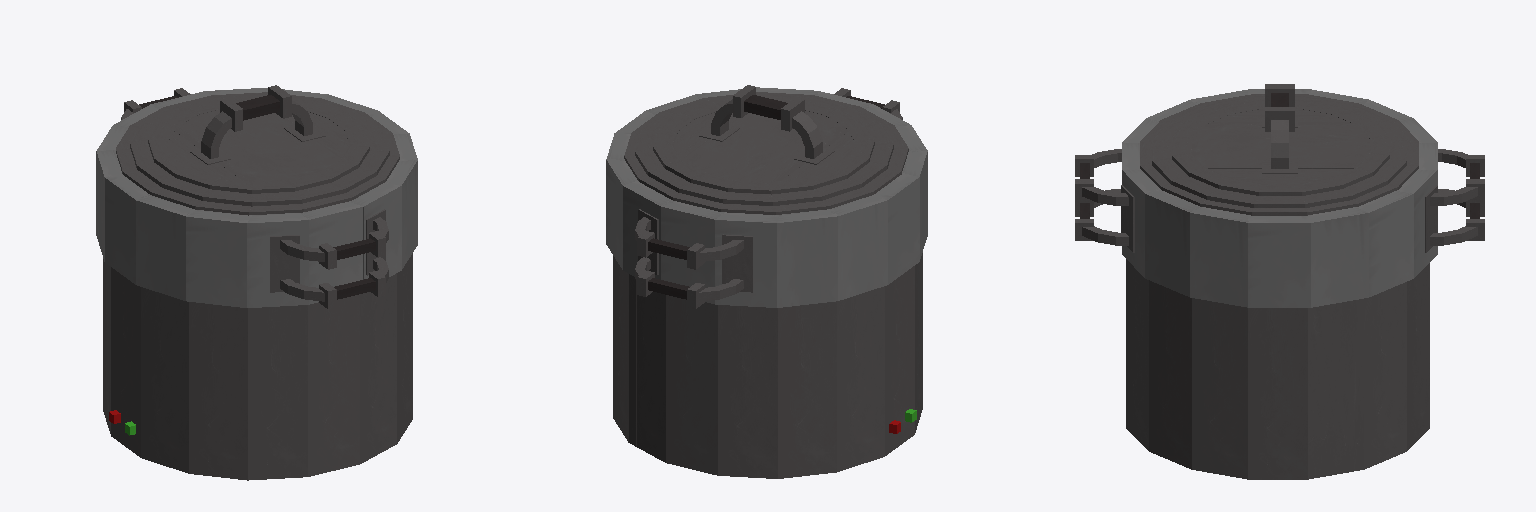
3 renders of one model, left to right at view 1: azimuth 30°, elevation 25°; view 2: azimuth 150°, elevation 25°; view 3: azimuth 270°, elevation 25°, orthographic.
Parts seen in each view (by area): view 1: cube; view 2: cube; view 3: cube.
Boxes of the visible parts, <box> form: cube: <box>96,85,417,480</box>; cube: <box>606,85,927,478</box>; cube: <box>1075,84,1484,479</box>.
Bounding box in the file's own units: 1.01 × 1.11 × 1.29.
1 materials, 1 textured.